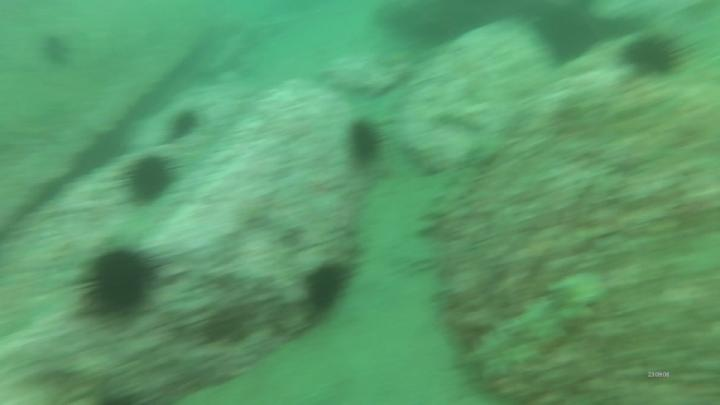echinus: (74, 245, 165, 319), (121, 154, 186, 208), (302, 256, 362, 313), (616, 32, 686, 77), (347, 115, 385, 166), (169, 110, 198, 141)
holothurian: (447, 273, 605, 384)
